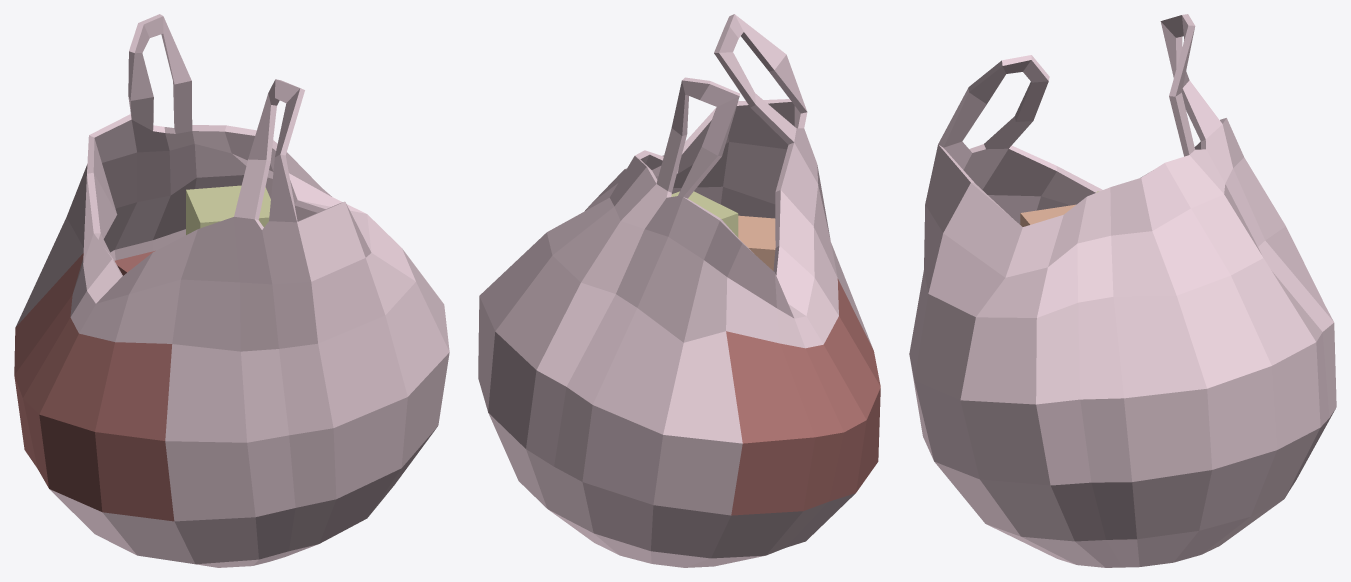
The model's file is plastic_bag.fbx.
3 renders of one model, left to right at view 1: azimuth 30°, elevation 25°; view 2: azimuth 150°, elevation 25°; view 3: azimuth 270°, elevation 25°, orthographic. The views are drawn at different scales.
Parts seen in each view (by area): view 1: Plastic Bag; view 2: Plastic Bag; view 3: Plastic Bag.
Boxes of the visible parts, x1,y1,x2,y2 form: Plastic Bag: [14, 14, 449, 567]; Plastic Bag: [478, 14, 880, 567]; Plastic Bag: [909, 14, 1336, 567].
Size of the model in its own units: 99.56 by 130 by 99.39.
